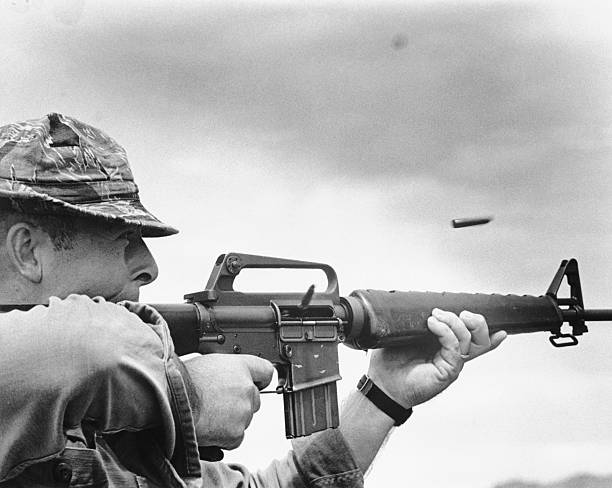rifle: (127, 251, 612, 432)
